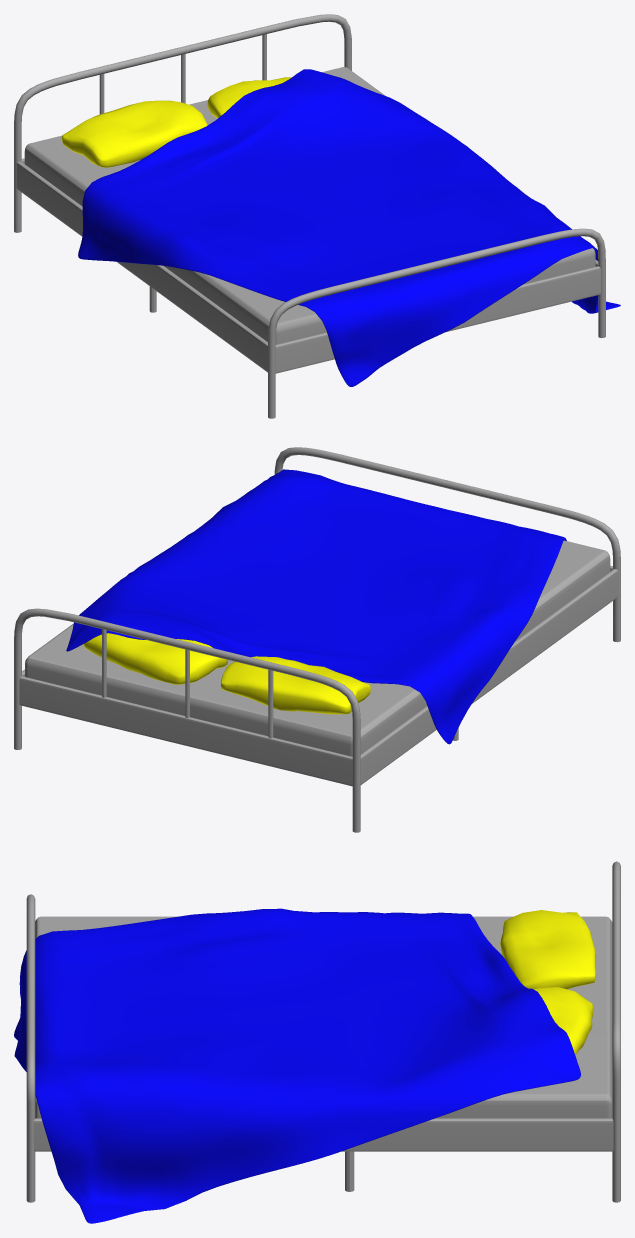
The model's file is Bed_1.fbx.
The picture shows the model from 3 angles, top to bottom: view 1: azimuth 30°, elevation 25°; view 2: azimuth 150°, elevation 25°; view 3: azimuth 270°, elevation 25°; orthographic projection. The views are drawn at different scales.
Visible parts, largest first — view 1: Drap, Mattress, R_side_bedframe, Pillow_1, pied_side_bedframe, End_bedframe, Start_bedframe, Pillow_2; view 2: Drap, Mattress, Top_side_bedframe, R_side_bedframe, Start_bedframe, Pillow_1, Pillow_2, End_bedframe; view 3: Drap, Mattress, L_side_bedframe, Pillow_1, Start_bedframe, End_bedframe, Pillow_2.
Part boxes in pixels (x1,y1,x2,y2): Drap: (78, 69, 620, 386); Mattress: (24, 67, 595, 344); R_side_bedframe: (16, 161, 267, 372); Pillow_1: (61, 100, 207, 167); pied_side_bedframe: (275, 266, 600, 373); End_bedframe: (268, 228, 605, 418); Start_bedframe: (14, 14, 351, 232); Pillow_2: (207, 77, 291, 118); Drap: (66, 469, 566, 744); Mattress: (25, 540, 610, 756); Top_side_bedframe: (19, 676, 352, 786); R_side_bedframe: (360, 569, 618, 784); Start_bedframe: (14, 608, 360, 832); Pillow_1: (221, 656, 370, 714); Pillow_2: (82, 633, 227, 684); End_bedframe: (274, 447, 620, 642); Drap: (14, 908, 580, 1223); Mattress: (35, 916, 612, 1118); L_side_bedframe: (33, 1118, 613, 1151); Pillow_1: (500, 910, 595, 989); Start_bedframe: (612, 861, 620, 1202); End_bedframe: (26, 894, 35, 1202); Pillow_2: (534, 987, 593, 1055).
Bounding box in the file's own units: 223 × 78.75 × 260.
